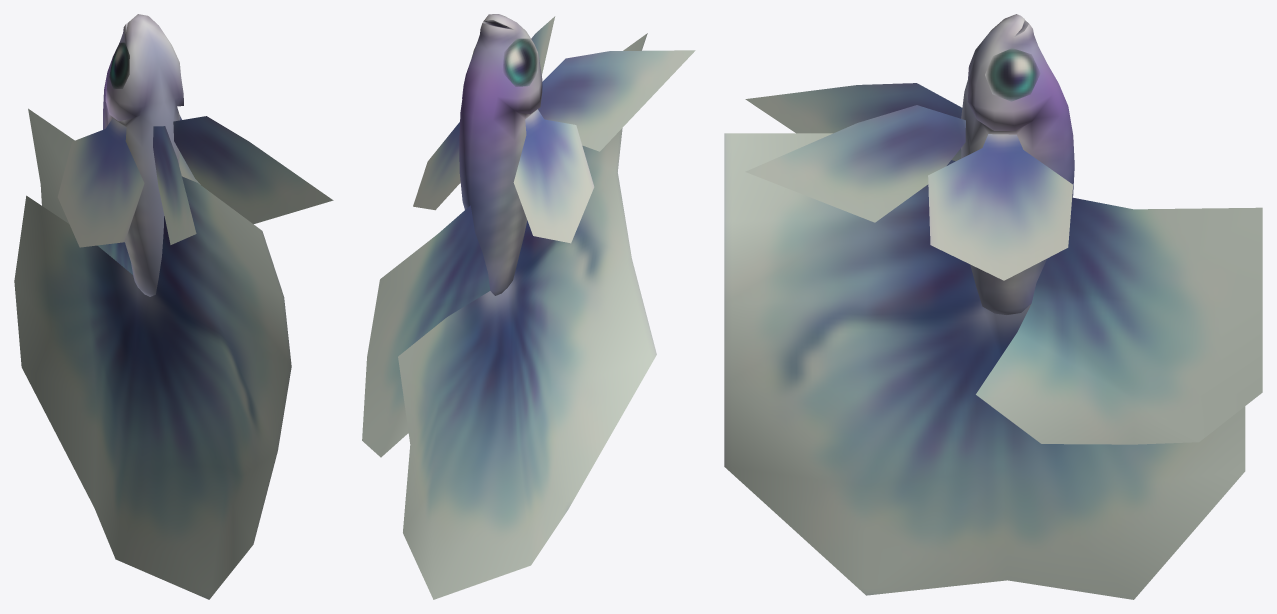
File: betta.glb
3 views of the same model, side by side, from view 1: azimuth 30°, elevation 25°; view 2: azimuth 150°, elevation 25°; view 3: azimuth 270°, elevation 25° (orthographic). The views are drawn at different scales.
Visible parts, largest first — view 1: FishBeta__mBeta; view 2: FishBeta__mBeta; view 3: FishBeta__mBeta.
Boxes of the visible parts, <box> form: FishBeta__mBeta: <box>14,14,333,599</box>; FishBeta__mBeta: <box>362,14,695,599</box>; FishBeta__mBeta: <box>724,14,1262,599</box>.
Bounding box in the file's own units: 0.1478 × 0.5499 × 0.4626.
Materials: 1 (1 with a texture image).
